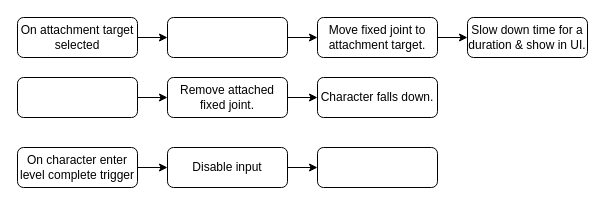
The diagram is 605 pixels wide and 205 high, and some of its shapes have lost their labels. Here are the shapes that lost their labels. From the top down, the centre of each, then its label:
the point at 227,37: Attach fixed joint to hand.
the point at 77,97: On character collided with obstacle
the point at 377,167: Display level complete UI
